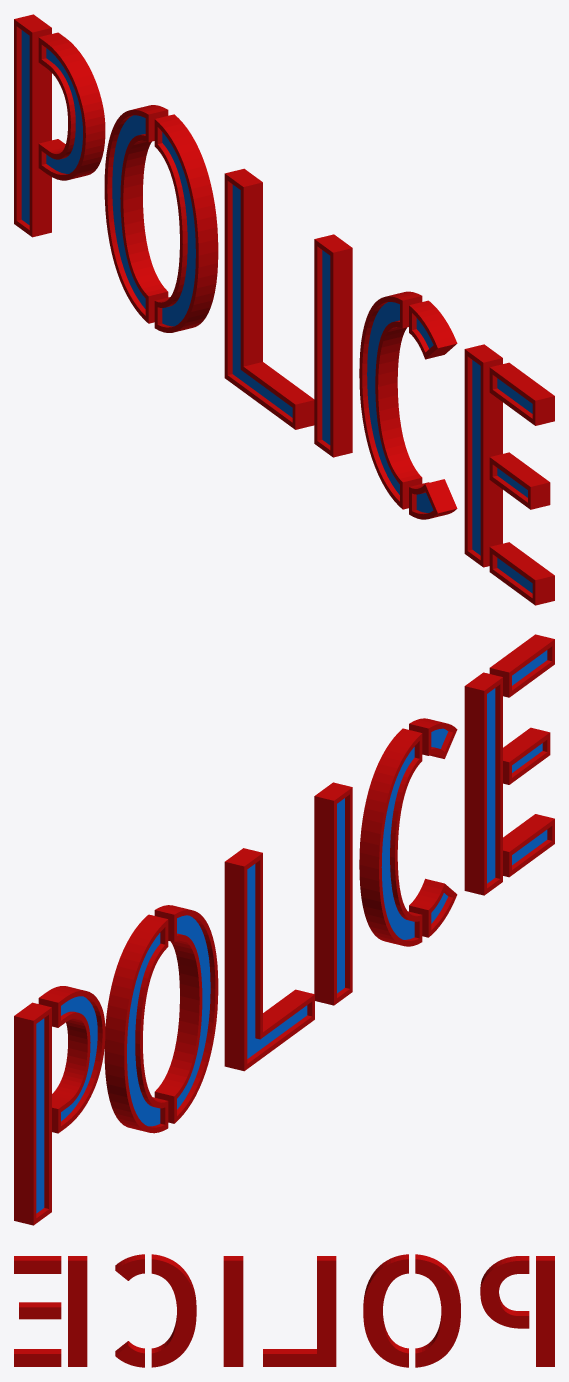
File: police.obj
The picture shows the model from 3 angles, top to bottom: view 1: azimuth 30°, elevation 25°; view 2: azimuth 150°, elevation 25°; view 3: azimuth 270°, elevation 25°; orthographic projection. The views are drawn at different scales.
Parts seen in each view (by area): view 1: 5dc09a98d93e4815c9e9cac3.012_ID91; view 2: 5dc09a98d93e4815c9e9cac3.012_ID91; view 3: 5dc09a98d93e4815c9e9cac3.012_ID91.
Part boxes in pixels (x1,y1,x2,y2): 5dc09a98d93e4815c9e9cac3.012_ID91: [14, 14, 554, 605]; 5dc09a98d93e4815c9e9cac3.012_ID91: [14, 634, 554, 1225]; 5dc09a98d93e4815c9e9cac3.012_ID91: [14, 1254, 554, 1367].
Size of the model in its own units: 0.04 by 0.4085 by 1.85.
